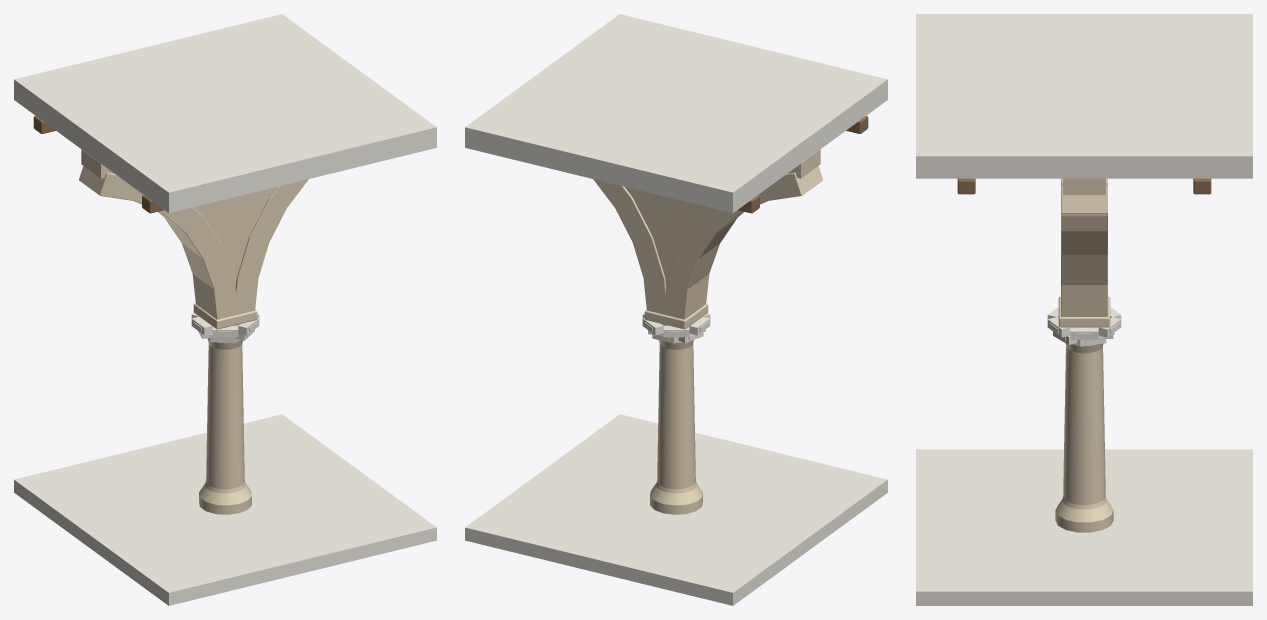
File: hypostyle-prayer-b-45fb2311.glb
3 views of the same model, side by side, from view 1: azimuth 30°, elevation 25°; view 2: azimuth 150°, elevation 25°; view 3: azimuth 270°, elevation 25° (orthographic). The views are drawn at different scales.
Parts seen in each view (by area): view 1: hypostyle-prayer-bay; view 2: hypostyle-prayer-bay; view 3: hypostyle-prayer-bay.
Boxes of the visible parts, x1,y1,x2,y2 form: hypostyle-prayer-bay: (14,14,436,605); hypostyle-prayer-bay: (465,14,887,605); hypostyle-prayer-bay: (916,14,1252,605).
Bounding box in the file's own units: 3.05 × 4.42 × 3.
